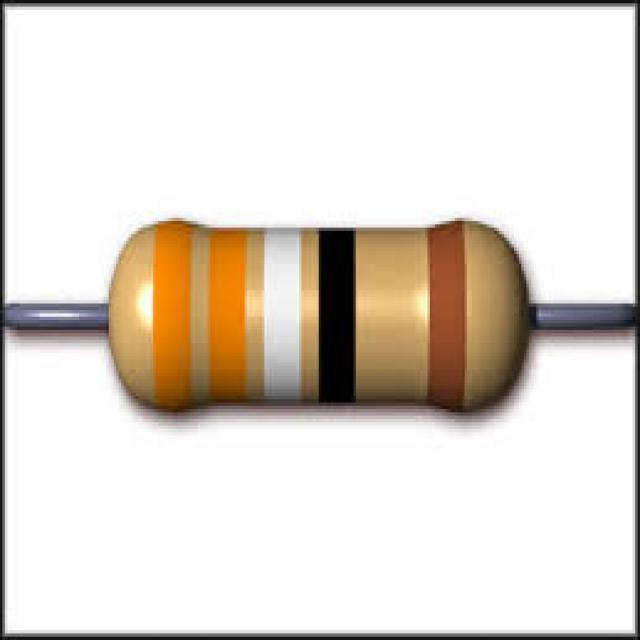Resistor: (4, 221, 635, 410)
